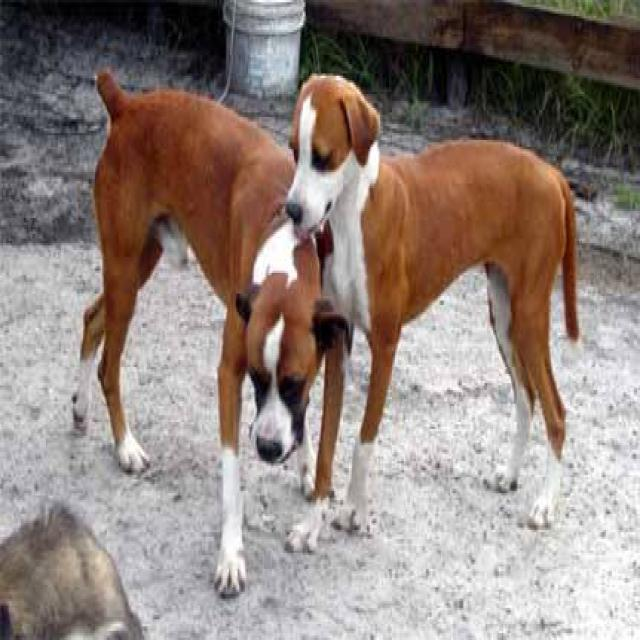dog: (70, 66, 346, 596), (284, 69, 580, 537), (0, 498, 146, 638)
